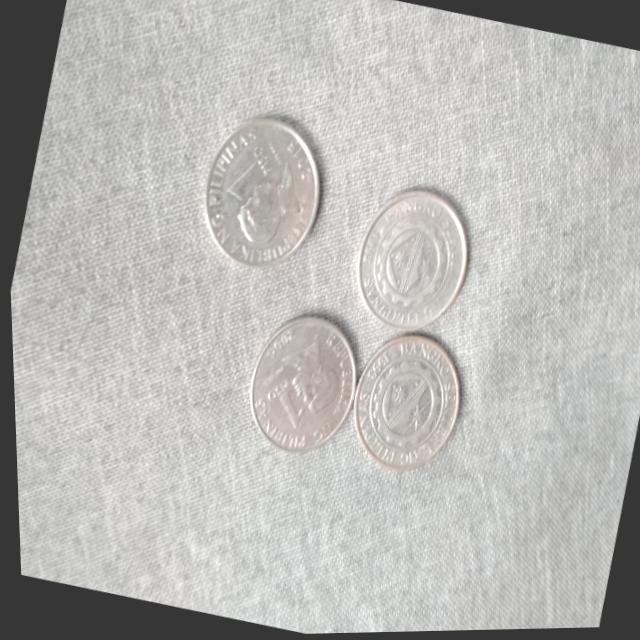1_Old_Back: (353, 349, 456, 466), (363, 206, 460, 320)
